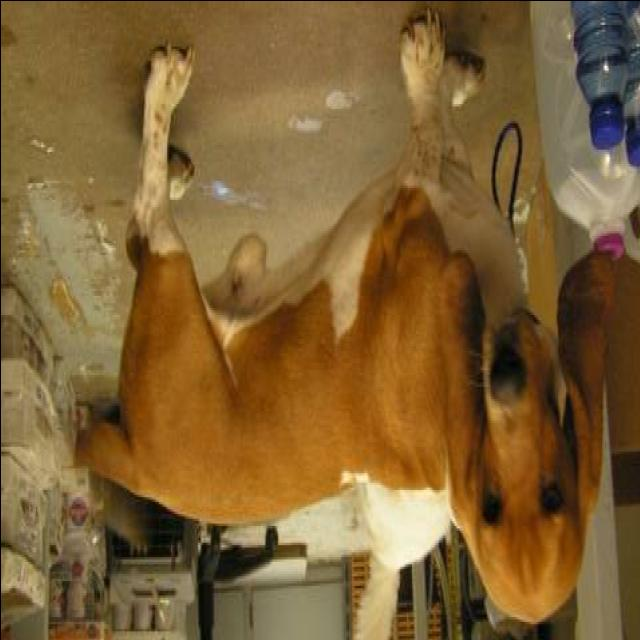dog: (57, 0, 622, 623)
